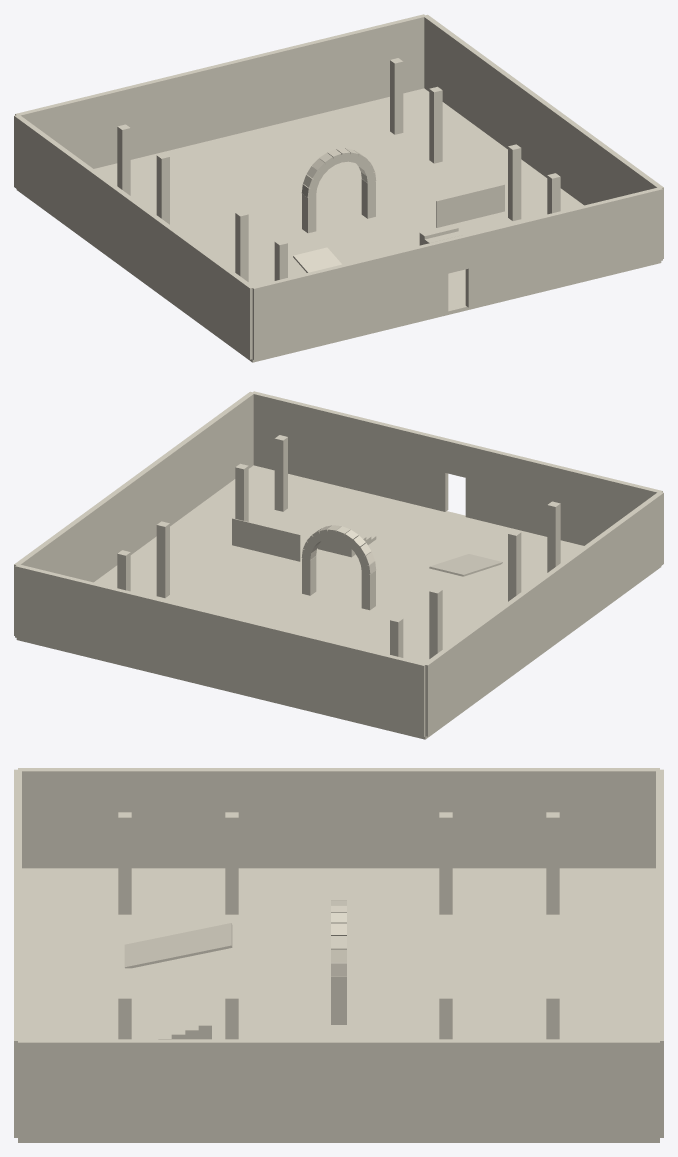
The model's file is courtyard.gltf.
The picture shows the model from 3 angles, top to bottom: view 1: azimuth 30°, elevation 25°; view 2: azimuth 150°, elevation 25°; view 3: azimuth 270°, elevation 25°; orthographic projection. The views are drawn at different scales.
Parts seen in each view (by area): view 1: floor, wall-north, wall-west, wall-east, door-left, door-right, thin-barrier, column-8--4, column-8--8, column-8-4, column--8--8, column--8-4 (+7 smaller); view 2: floor, wall-north, wall-west, wall-east, door-right, door-left, thin-barrier, column-8-8, column-8--4, ramp, column--8-8, column--8--4 (+7 smaller); view 3: floor, wall-east, wall-west, ramp, wall-north, column--8--8, column--8--4, column--8-4, column--8-8, door-right, door-left, arch-right (+4 smaller).
Part boxes in pixels (x1,y1,x2,y2): floor: [16, 88, 661, 362]; wall-north: [15, 14, 425, 168]; wall-west: [14, 114, 254, 359]; wall-east: [423, 14, 663, 258]; door-left: [252, 239, 448, 359]; door-right: [465, 187, 662, 307]; thin-barrier: [436, 184, 504, 227]; column-8--4: [429, 86, 442, 163]; column-8--8: [390, 58, 403, 134]; column-8-4: [508, 144, 521, 220]; column--8--8: [117, 124, 130, 195]; column--8-4: [235, 211, 248, 281]; floor: [16, 465, 661, 739]; wall-north: [15, 564, 425, 736]; wall-west: [423, 491, 663, 736]; wall-east: [14, 391, 254, 635]; door-right: [252, 391, 448, 511]; door-left: [465, 443, 662, 545]; thin-barrier: [232, 518, 300, 561]; column-8-8: [274, 435, 287, 511]; column-8--4: [156, 521, 169, 597]; ramp: [429, 554, 502, 576]; column--8-8: [547, 501, 560, 572]; column--8--4: [429, 588, 442, 658]; floor: [18, 868, 659, 1142]; wall-east: [18, 1039, 659, 1139]; wall-west: [18, 768, 659, 868]; ramp: [124, 923, 232, 968]; wall-north: [656, 769, 663, 1137]; column--8--8: [546, 812, 559, 914]; column--8--4: [439, 812, 452, 914]; column--8-4: [225, 812, 238, 914]; column--8-8: [118, 812, 131, 914]; door-right: [14, 912, 21, 1137]; door-left: [14, 769, 21, 898]; arch-right: [331, 976, 346, 1024].
Bounding box in the file's own units: 24.3 × 4.21 × 24.3.
